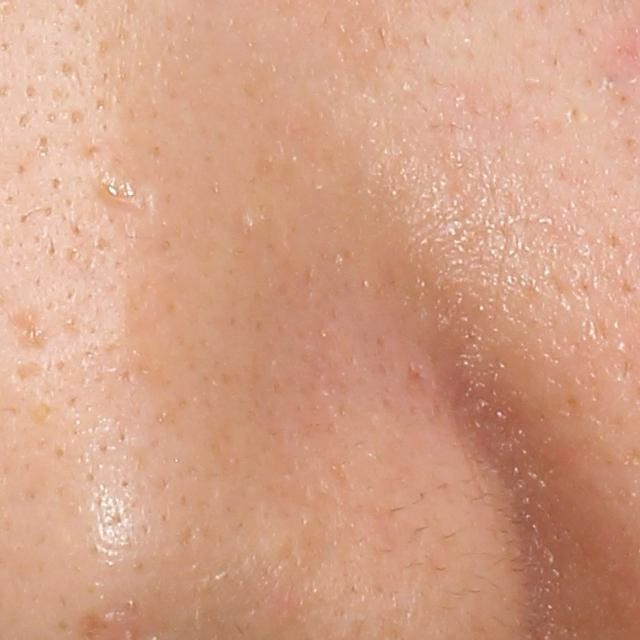atrophic_scar: (88, 172, 160, 224), (10, 300, 49, 354), (10, 358, 45, 389)
